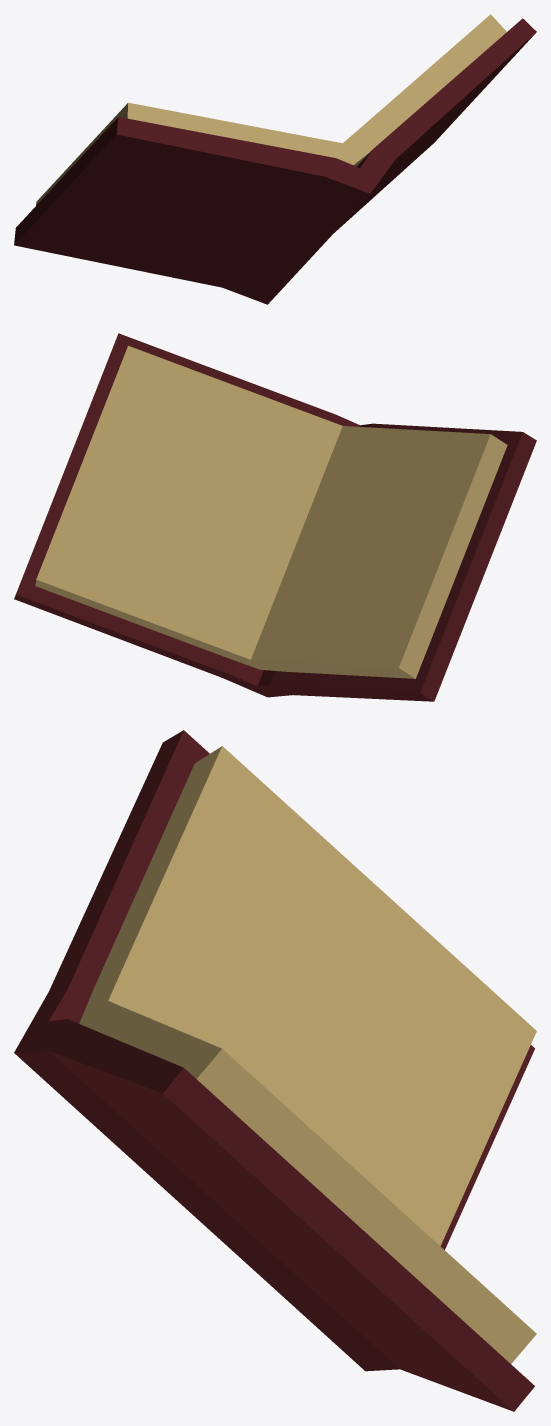
Rendered from book_opened_semi.glb.
The picture shows the model from 3 angles, top to bottom: view 1: azimuth 30°, elevation 25°; view 2: azimuth 150°, elevation 25°; view 3: azimuth 270°, elevation 25°; orthographic projection. The views are drawn at different scales.
Parts seen in each view (by area): view 1: Cube.002; view 2: Cube.002; view 3: Cube.002.
Part boxes in pixels (x1,y1,x2,y2): Cube.002: (14,14,536,304); Cube.002: (14,333,536,701); Cube.002: (14,730,536,1411).
Bounding box in the file's own units: 1.12 × 0.704 × 0.704.
